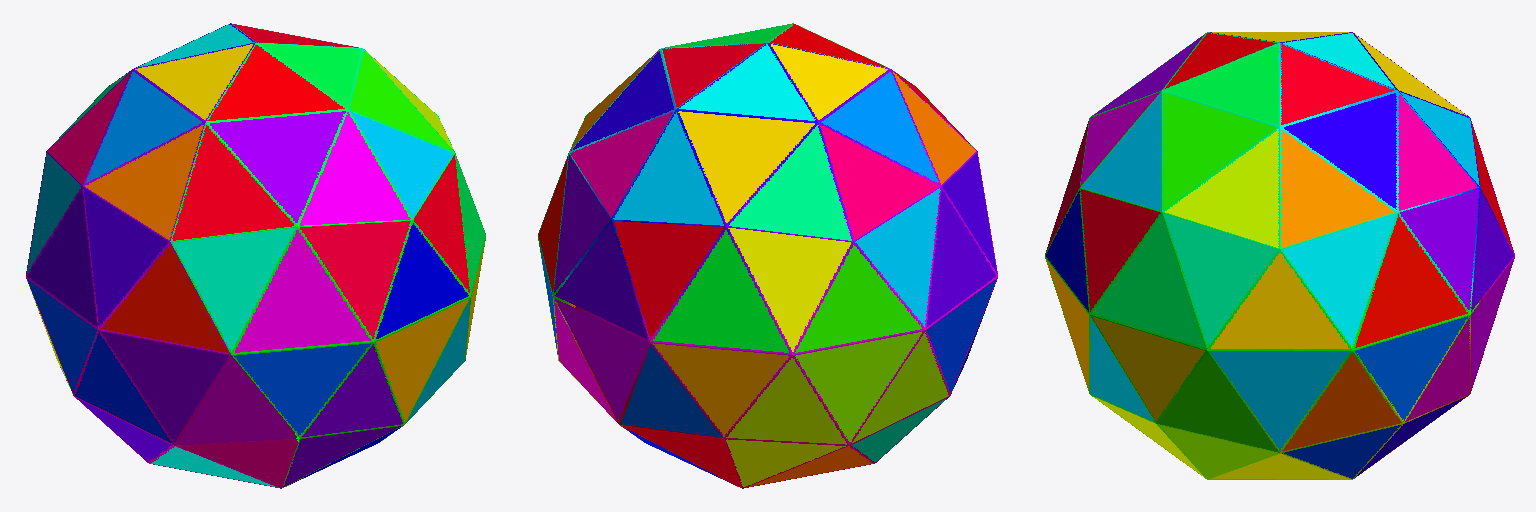
The picture shows the model from 3 angles: view 1: azimuth 30°, elevation 25°; view 2: azimuth 150°, elevation 25°; view 3: azimuth 270°, elevation 25°; orthographic projection.
Parts seen in each view (by area): view 1: ICO球_ICO球.001; view 2: ICO球_ICO球.001; view 3: ICO球_ICO球.001.
Boxes of the visible parts, x1=… form: ICO球_ICO球.001: x1=26, y1=23, x2=485, y2=488; ICO球_ICO球.001: x1=538, y1=23, x2=997, y2=488; ICO球_ICO球.001: x1=1045, y1=32, x2=1514, y2=479.
Size of the model in its own units: 1.9 by 2 by 2.
1 materials, 1 textured.